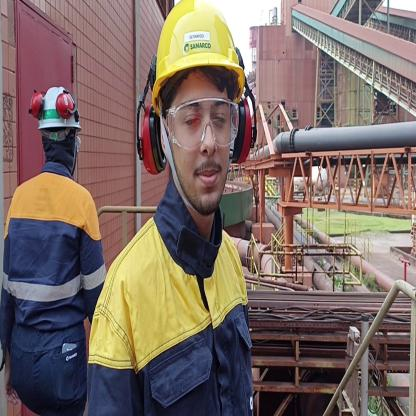Balaclava: (42, 125, 76, 173)
C_eletrica: (90, 242, 262, 416)
Capacete: (149, 0, 250, 82), (29, 88, 84, 128)
Operacional: (0, 174, 98, 330)
